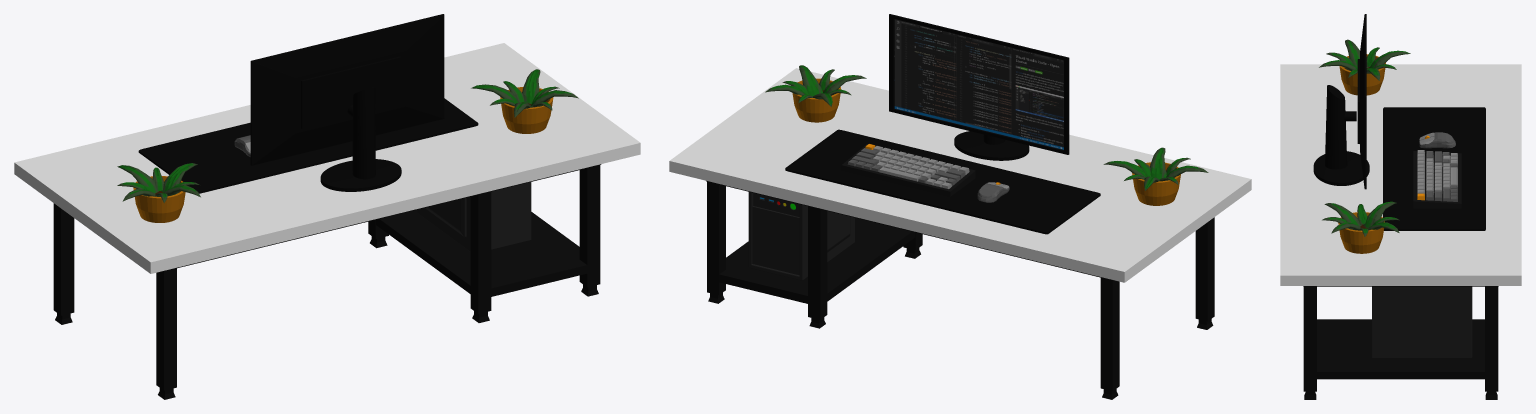
File: Desktop.glb
The picture shows the model from 3 angles, left to right: view 1: azimuth 30°, elevation 25°; view 2: azimuth 150°, elevation 25°; view 3: azimuth 270°, elevation 25°; orthographic projection. The views are drawn at different scales.
Parts seen in each view (by area): view 1: Table, Monitor, Cube.002, Cube, Cylinder.001, Cylinder.002; view 2: Table, MonitorScreen, Cube.002, Cube, Monitor, Keyboard, Cylinder.001, Cylinder.002; view 3: Table, Cube.002, Cube, Monitor, Keyboard, Cylinder.002, Cylinder.001, Cylinder.
Boxes of the visible parts, bbox=[...] form: Table: bbox=[14, 43, 640, 399]; Monitor: bbox=[250, 14, 444, 191]; Cube.002: bbox=[138, 98, 478, 193]; Cube: bbox=[417, 182, 531, 251]; Cylinder.001: bbox=[117, 163, 200, 222]; Cylinder.002: bbox=[471, 69, 578, 133]; Table: bbox=[669, 68, 1251, 399]; MonitorScreen: bbox=[894, 19, 1063, 149]; Cube.002: bbox=[785, 129, 1100, 234]; Cube: bbox=[748, 192, 854, 280]; Monitor: bbox=[889, 14, 1069, 160]; Keyboard: bbox=[841, 144, 975, 196]; Cylinder.001: bbox=[1103, 147, 1208, 205]; Cylinder.002: bbox=[765, 65, 866, 122]; Table: bbox=[1280, 64, 1521, 399]; Cube.002: bbox=[1383, 107, 1485, 230]; Cube: bbox=[1372, 286, 1472, 358]; Monitor: bbox=[1313, 14, 1369, 189]; Keyboard: bbox=[1413, 150, 1461, 208]; Cylinder.002: bbox=[1322, 201, 1399, 253]; Cylinder.001: bbox=[1319, 39, 1410, 95]; Cylinder: bbox=[1419, 132, 1455, 148].
Size of the model in its own units: 9.39 by 5.2 by 4.53.
Materials: 17 (2 with a texture image).
